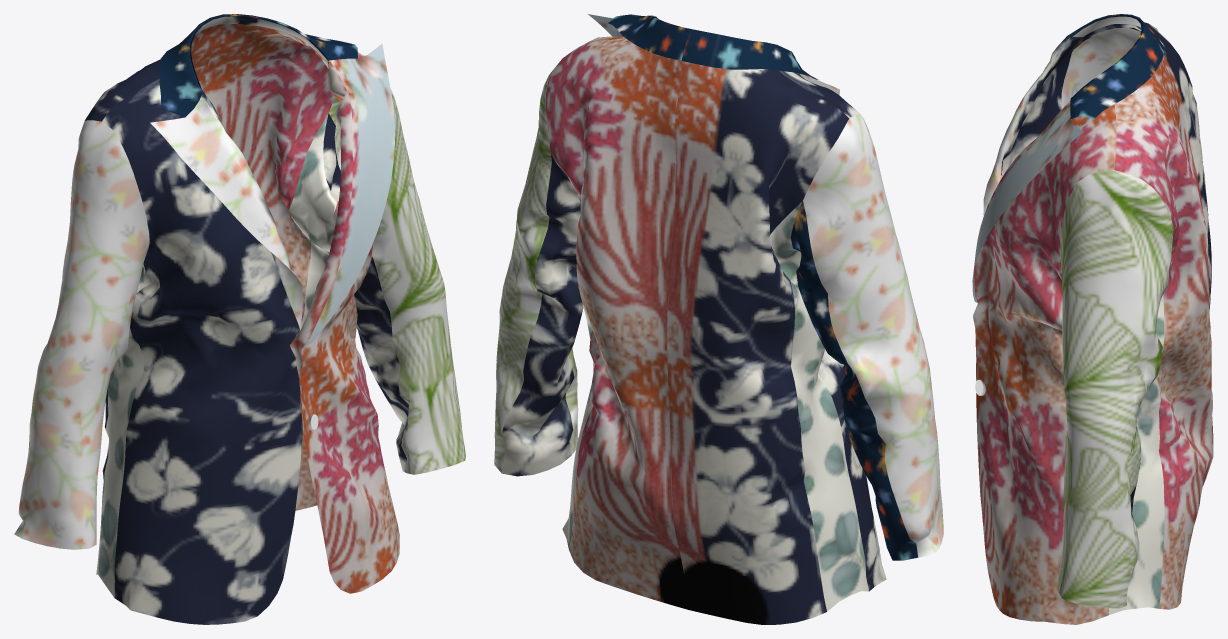
The picture shows the model from 3 angles, left to right: view 1: azimuth 30°, elevation 25°; view 2: azimuth 150°, elevation 25°; view 3: azimuth 270°, elevation 25°; orthographic projection. The views are drawn at different scales.
Visible parts, largest first — view 1: Model_9; view 2: Model_9; view 3: Model_9.
Part boxes in pixels (x1,y1,x2,y2): Model_9: (14, 14, 465, 624); Model_9: (494, 14, 943, 624); Model_9: (972, 14, 1213, 624).
Size of the model in its own units: 5.84 by 7.06 by 2.81.
Materials: 9 (8 with a texture image).
